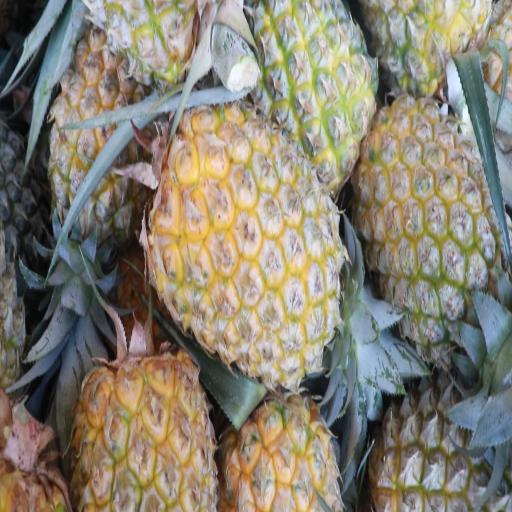------------------------------: (51, 25, 146, 233)
Pineapple - v8 v1: (150, 102, 339, 372), (360, 95, 496, 320), (247, 0, 371, 183)
